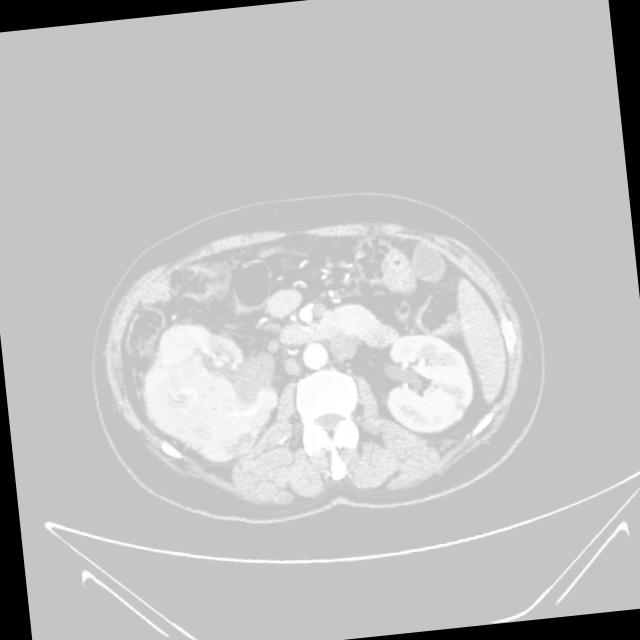TUMOR: (150, 238, 537, 453)
